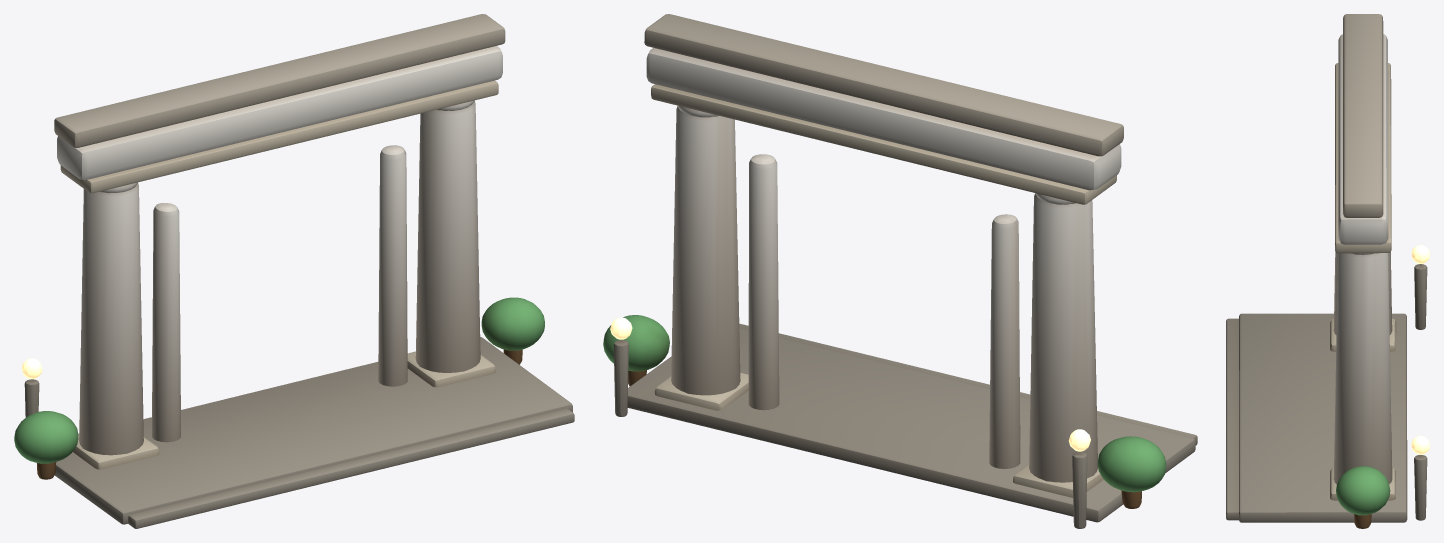
3 renders of one model, left to right at view 1: azimuth 30°, elevation 25°; view 2: azimuth 150°, elevation 25°; view 3: azimuth 270°, elevation 25°, orthographic. The views are drawn at different scales.
Parts seen in each view (by area): view 1: gate_5b9a1fc9; view 2: gate_5b9a1fc9; view 3: gate_5b9a1fc9.
Boxes of the visible parts, left/top/right/bottom form: gate_5b9a1fc9: left=14, top=14, right=574, bottom=528; gate_5b9a1fc9: left=603, top=14, right=1197, bottom=528; gate_5b9a1fc9: left=1226, top=14, right=1429, bottom=528.
Size of the model in its own units: 6.83 by 4.36 by 2.55.
